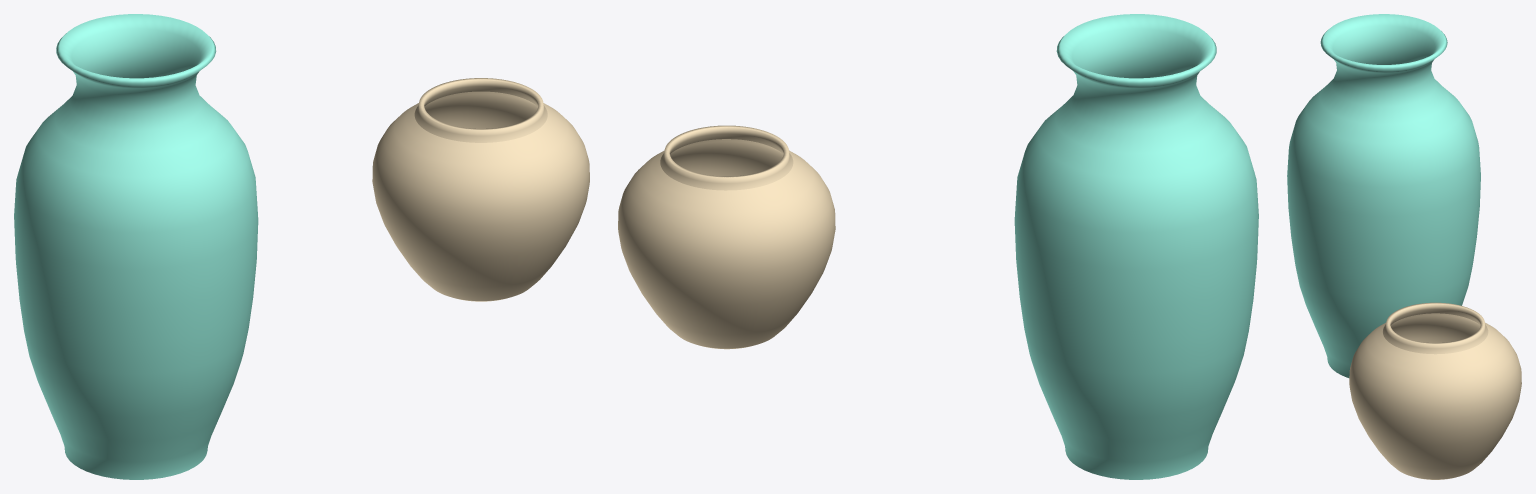
Rendered from Vas Bunga.fbx.
3 views of the same model, side by side, from view 1: azimuth 30°, elevation 25°; view 2: azimuth 150°, elevation 25°; view 3: azimuth 270°, elevation 25° (orthographic). The views are drawn at different scales.
Visible parts, largest first — view 1: Pot bunga besar, Pot bunga kecil; view 2: Pot bunga besar, Pot bunga kecil; view 3: Pot bunga besar, Pot bunga kecil.
Part boxes in pixels (left/top/right/bottom): Pot bunga besar: left=14, top=14, right=258, bottom=479; Pot bunga kecil: left=372, top=78, right=589, bottom=301; Pot bunga besar: left=1014, top=14, right=1258, bottom=479; Pot bunga kecil: left=618, top=125, right=835, bottom=349; Pot bunga besar: left=1287, top=14, right=1480, bottom=377; Pot bunga kecil: left=1349, top=302, right=1521, bottom=479.
Size of the model in its own units: 79.31 by 52.96 by 35.2.
